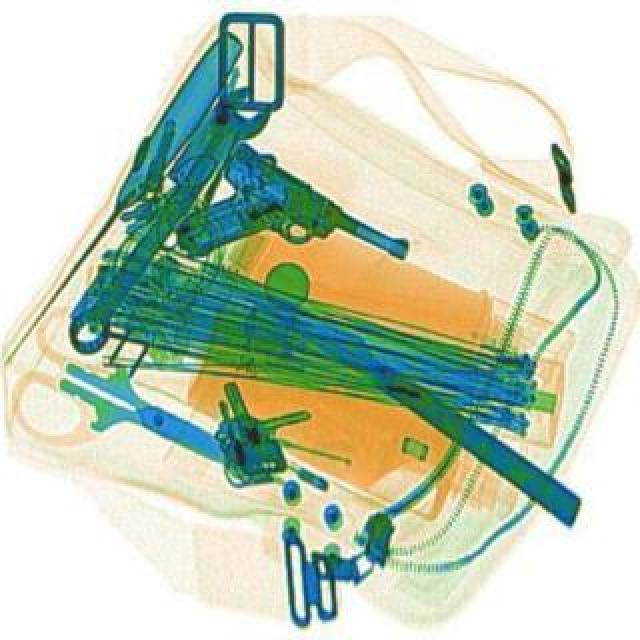gun: (170, 144, 422, 352)
knife: (248, 284, 592, 532), (2, 32, 254, 368), (46, 348, 278, 512)
scissors: (52, 80, 284, 366)
